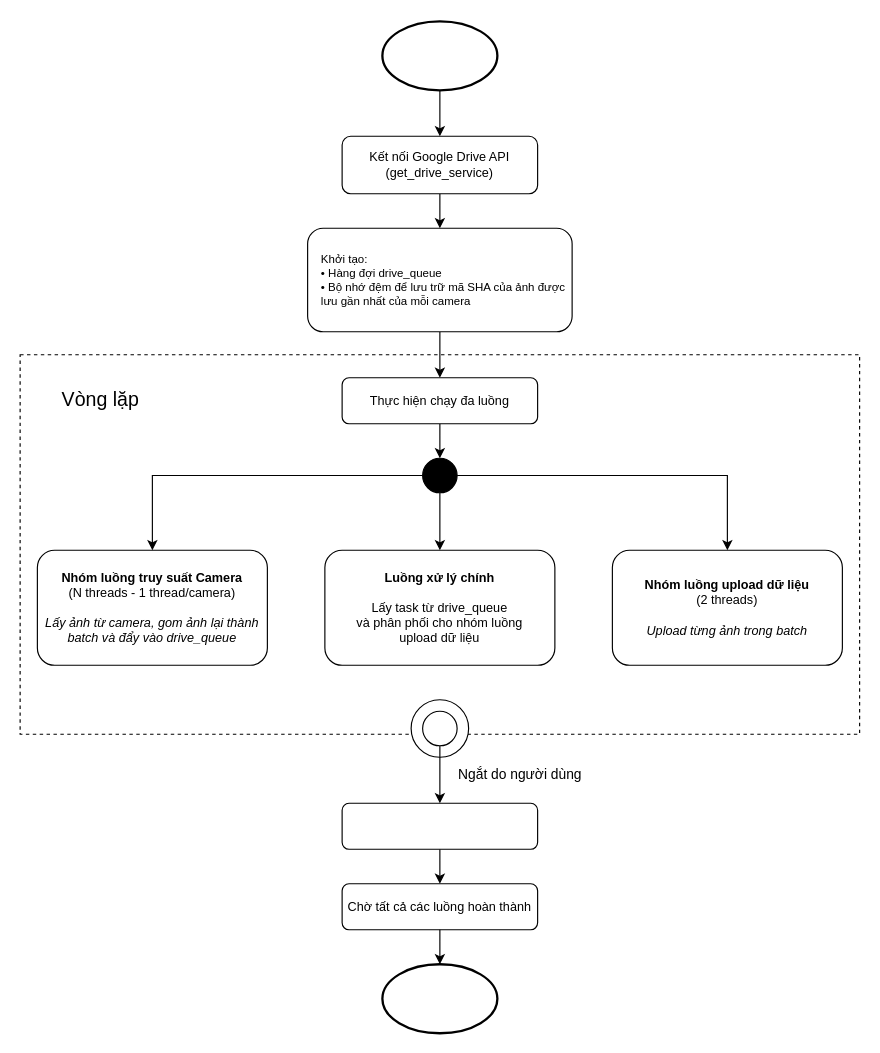
Some shapes in this 880 by 1053 pixel diagram are drawn without their labels. Each missing label, with the centre of its shape:
Bắt đầu: [439,55]
Gửi tín hiệu dừng đến tất cả luồng: [439,825]
Kết thúc: [439,998]
